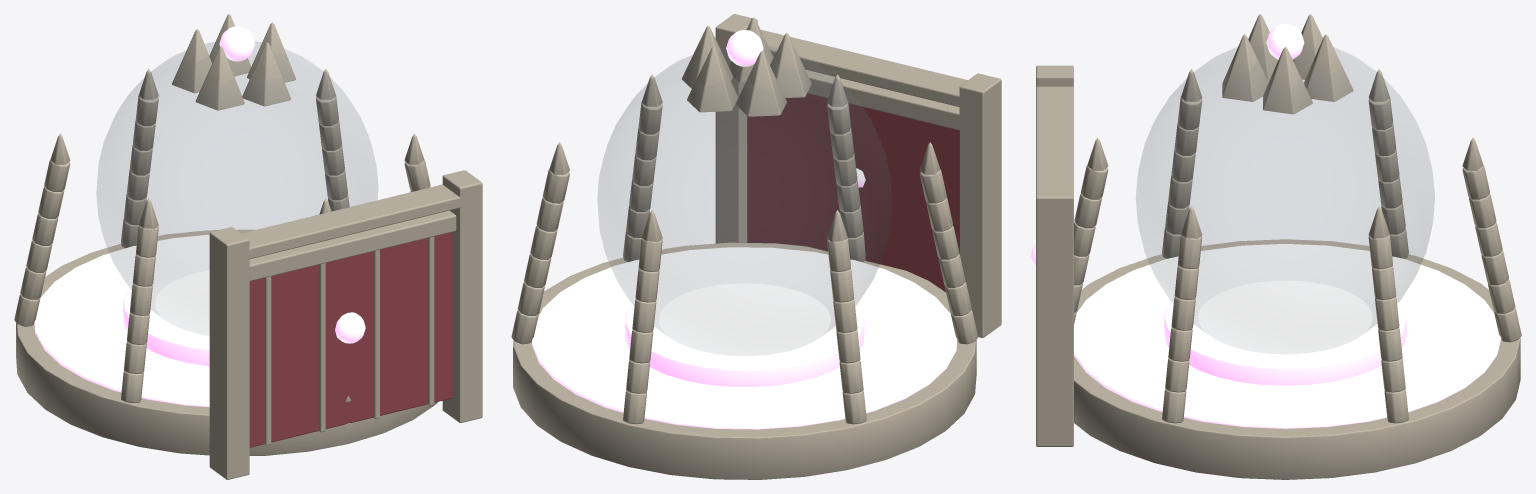
The model's file is MonsterHub_NULL_Hatchery.glb.
The picture shows the model from 3 angles, left to right: view 1: azimuth 30°, elevation 25°; view 2: azimuth 150°, elevation 25°; view 3: azimuth 270°, elevation 25°; orthographic projection. The views are drawn at different scales.
Visible parts, largest first — view 1: MonsterHub_NULL_Hatchery, MonsterHub_NULL_Hatchery_Gate; view 2: MonsterHub_NULL_Hatchery, MonsterHub_NULL_Hatchery_Gate; view 3: MonsterHub_NULL_Hatchery.
Part boxes in pixels (x1=…): MonsterHub_NULL_Hatchery: x1=14, y1=14, x2=482, y2=479; MonsterHub_NULL_Hatchery_Gate: x1=249, y1=210, x2=456, y2=447; MonsterHub_NULL_Hatchery: x1=511, y1=14, x2=1001, y2=479; MonsterHub_NULL_Hatchery_Gate: x1=747, y1=69, x2=959, y2=292; MonsterHub_NULL_Hatchery: x1=1036, y1=14, x2=1521, y2=479.
Size of the model in its own units: 4.95 by 4.13 by 5.17.
